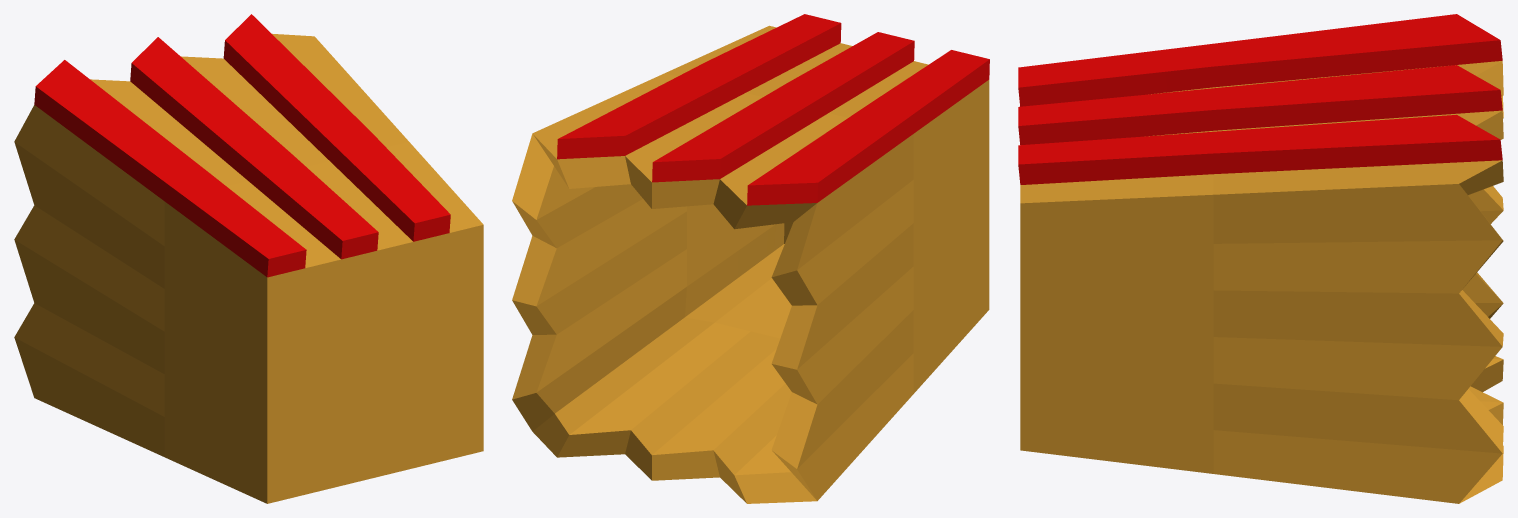
The picture shows the model from 3 angles, left to right: view 1: azimuth 30°, elevation 25°; view 2: azimuth 150°, elevation 25°; view 3: azimuth 270°, elevation 25°; orthographic projection. The views are drawn at different scales.
Visible parts, largest first — view 1: Cube.011_Cube.000; view 2: Cube.011_Cube.000; view 3: Cube.011_Cube.000.
Boxes of the visible parts, <box> form: Cube.011_Cube.000: <box>14,14,483,503</box>; Cube.011_Cube.000: <box>512,14,989,503</box>; Cube.011_Cube.000: <box>1018,14,1503,503</box>.
Size of the model in its own units: 0.2612 by 0.2782 by 0.359.
